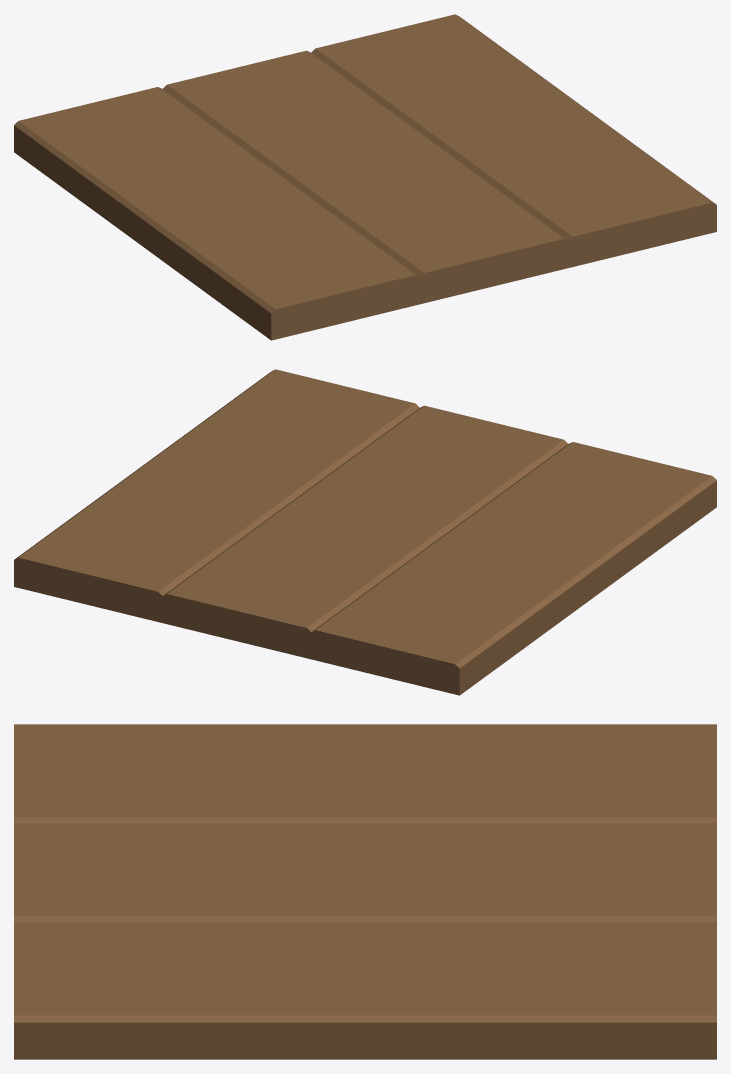
File: board_floor.glb
3 renders of one model, top to bottom at view 1: azimuth 30°, elevation 25°; view 2: azimuth 150°, elevation 25°; view 3: azimuth 270°, elevation 25°, orthographic. The views are drawn at different scales.
Visible parts, largest first — view 1: Board floor; view 2: Board floor; view 3: Board floor.
Part boxes in pixels (<box>): Board floor: <box>14,14,716,340</box>; Board floor: <box>14,369,716,695</box>; Board floor: <box>14,724,716,1059</box>.
Bounding box in the file's own units: 1 × 0.065 × 1.
